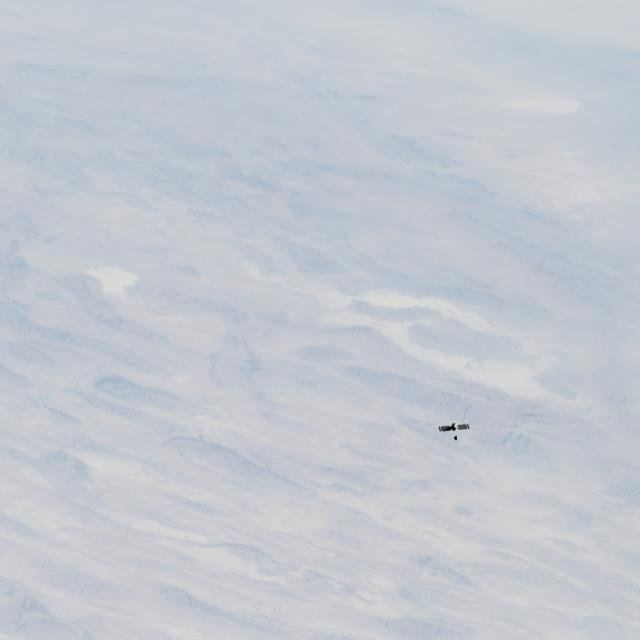satellite: (436, 415, 483, 449)
